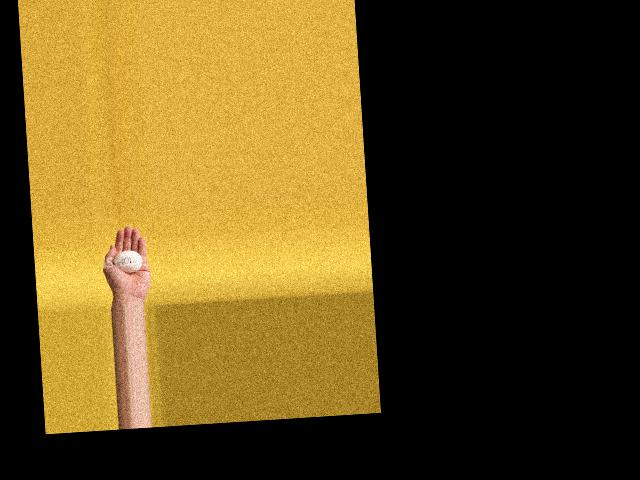egg: (113, 249, 143, 273)
